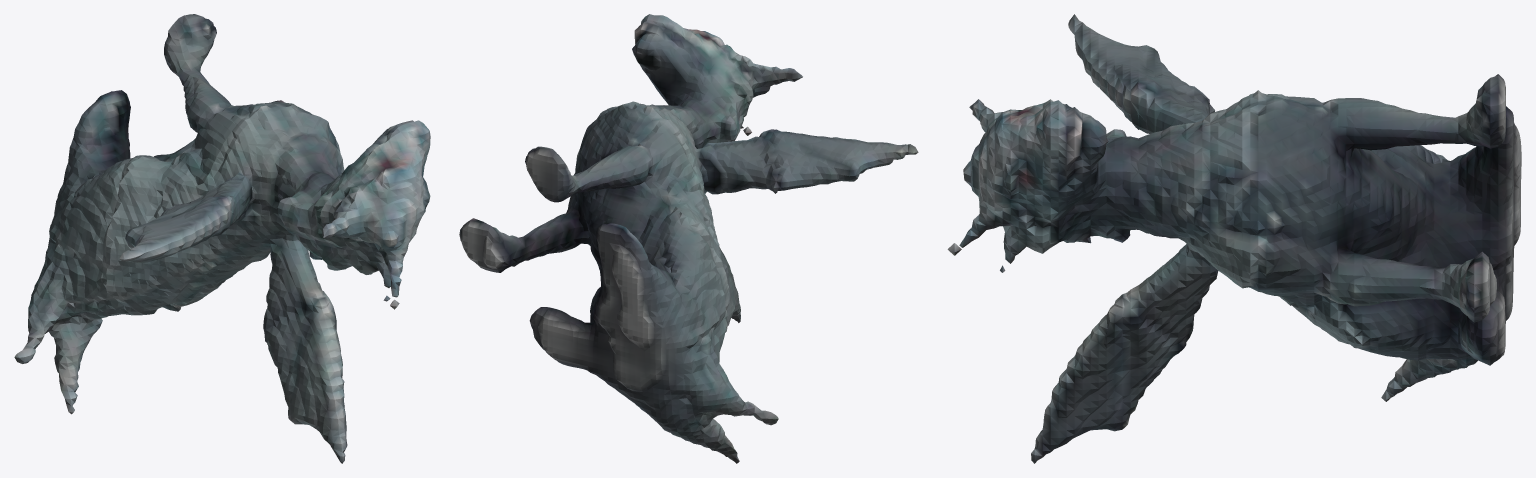
3 views of the same model, side by side, from view 1: azimuth 30°, elevation 25°; view 2: azimuth 150°, elevation 25°; view 3: azimuth 270°, elevation 25° (orthographic). The views are drawn at different scales.
Parts seen in each view (by area): view 1: world; view 2: world; view 3: world.
Boxes of the visible parts, x1,y1,x2,y2 form: world: [14, 14, 430, 463]; world: [459, 14, 918, 463]; world: [947, 14, 1521, 463].
Size of the model in its own units: 0.8552 by 0.8134 by 0.9841.
